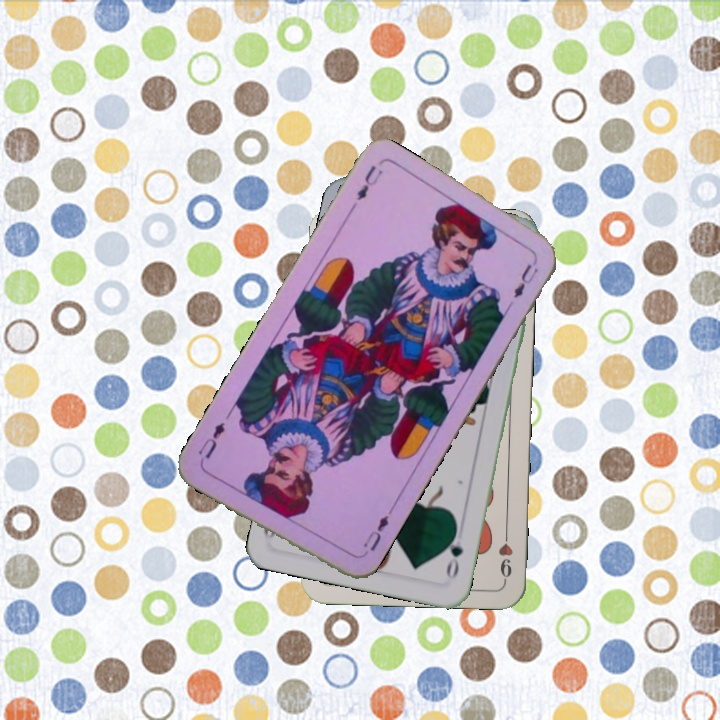EU: (359, 511, 392, 554), (353, 161, 386, 203)
GO: (442, 524, 466, 583)
H9: (494, 524, 515, 583)
